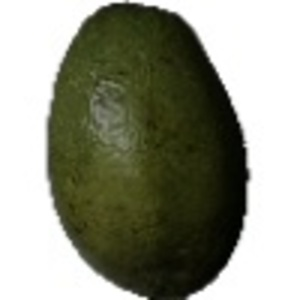abacate: (44, 4, 254, 293)
